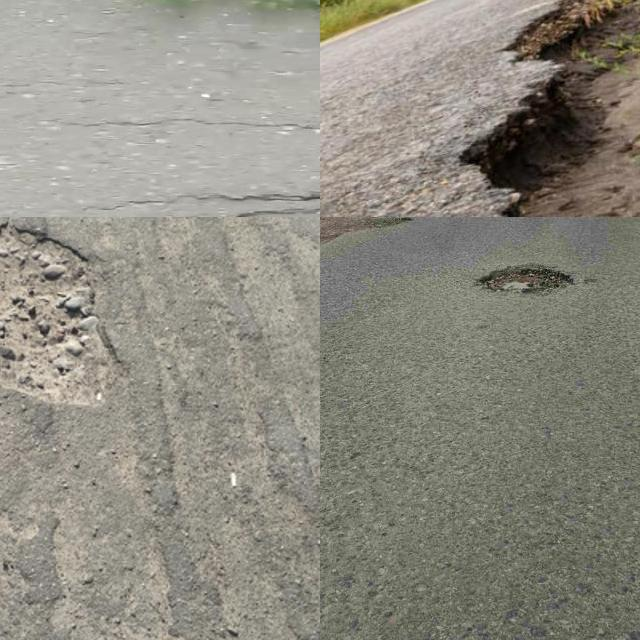Lubang: (0, 230, 131, 412), (485, 257, 582, 302)
Pinggir: (449, 0, 621, 217)
